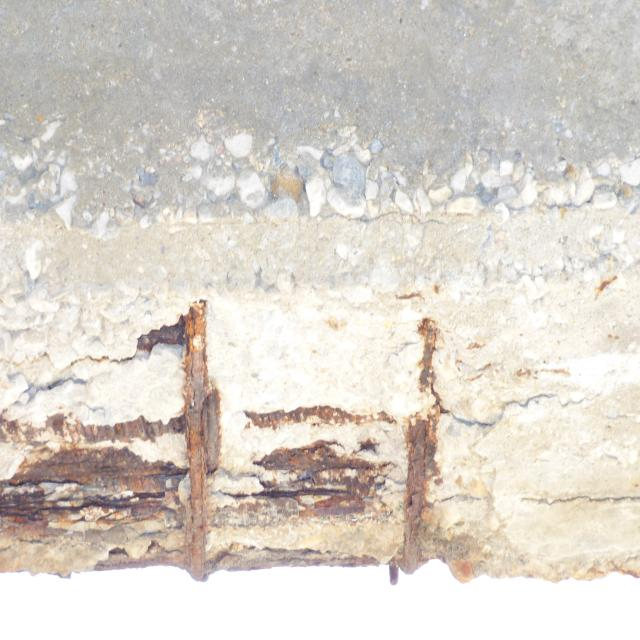corrosion: (0, 297, 512, 585)
